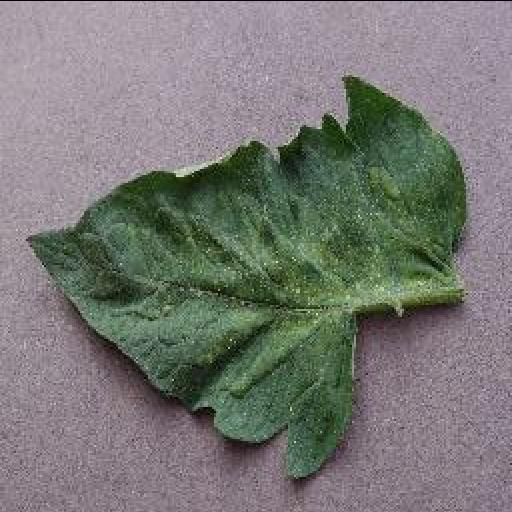disease_tomato: (23, 72, 469, 482)
